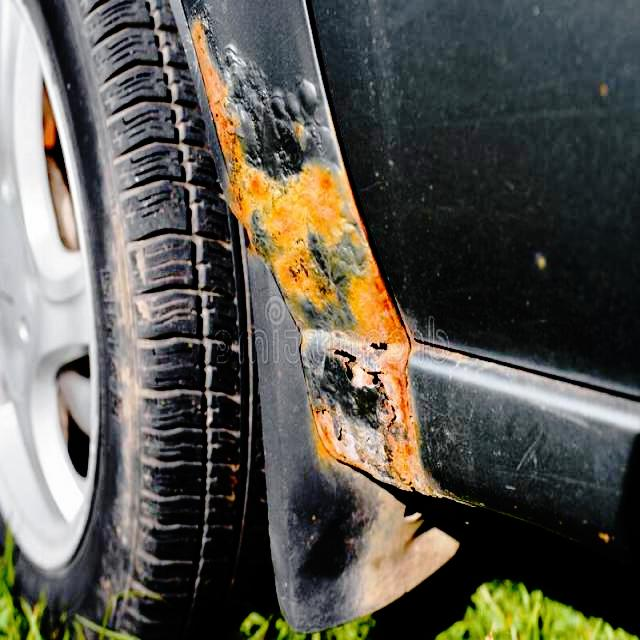Corrosion: (240, 165, 338, 282), (351, 250, 409, 352), (392, 338, 429, 492), (218, 126, 256, 238), (195, 25, 228, 148), (274, 239, 325, 318), (330, 336, 378, 389), (313, 410, 351, 464)
